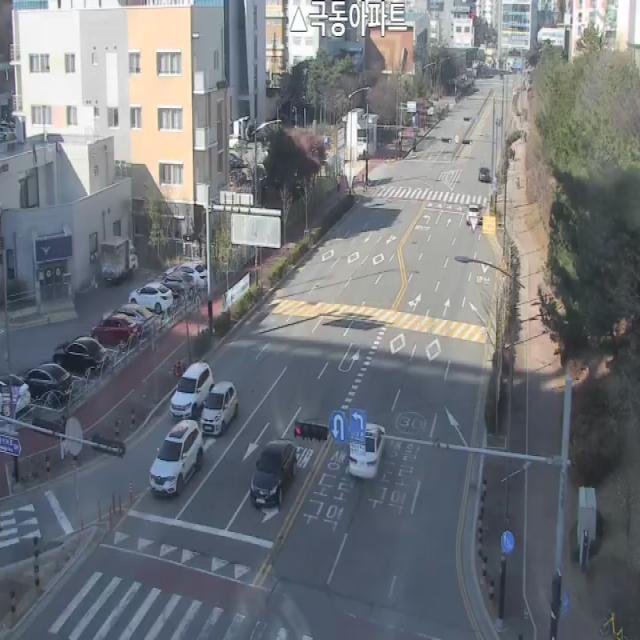Car: (150, 419, 204, 497), (250, 440, 297, 507), (170, 362, 214, 420), (21, 361, 74, 406), (53, 334, 108, 375), (200, 381, 238, 436), (349, 422, 385, 479), (102, 232, 138, 281), (90, 312, 137, 347), (0, 371, 32, 417), (155, 271, 200, 299), (129, 282, 174, 309), (164, 257, 208, 282), (467, 204, 482, 226), (478, 167, 491, 183)
